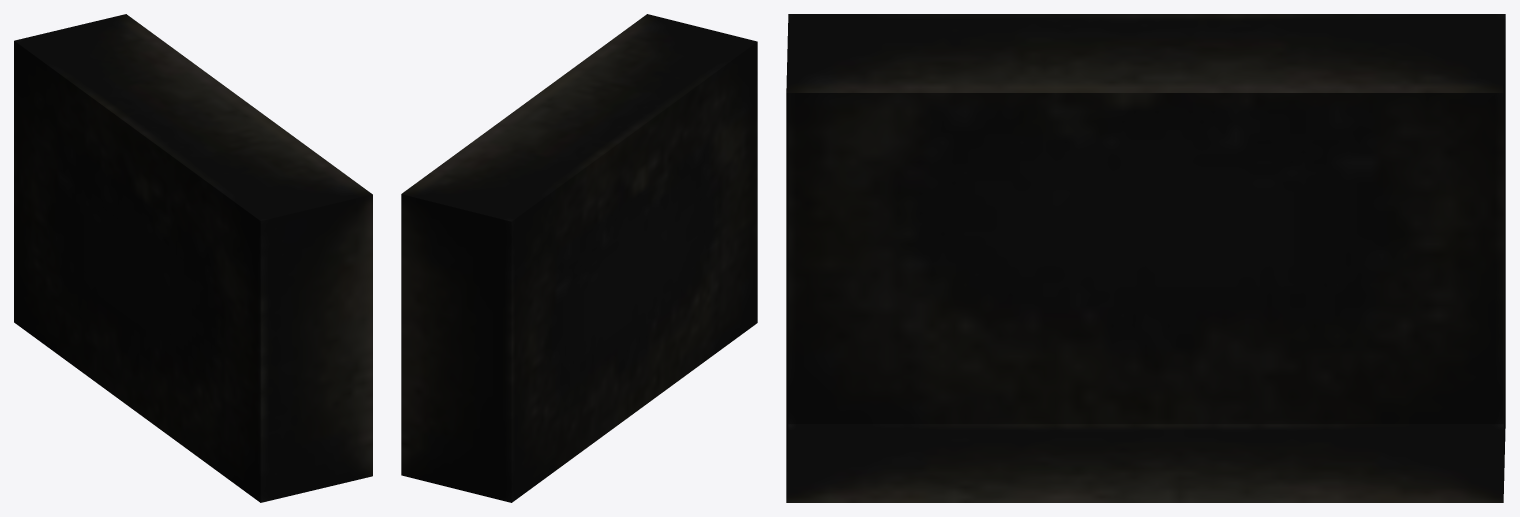
The model's file is DoubleWindow_Blind.FBX.
3 views of the same model, side by side, from view 1: azimuth 30°, elevation 25°; view 2: azimuth 150°, elevation 25°; view 3: azimuth 270°, elevation 25° (orthographic). The views are drawn at different scales.
Visible parts, largest first — view 1: DoubleWindow_Blind; view 2: DoubleWindow_Blind; view 3: DoubleWindow_Blind.
Boxes of the visible parts, bbox=[...] form: DoubleWindow_Blind: bbox=[14, 14, 372, 502]; DoubleWindow_Blind: bbox=[401, 14, 757, 502]; DoubleWindow_Blind: bbox=[786, 14, 1505, 502].
Bounding box in the file's own units: 71.38 × 173 × 274.
